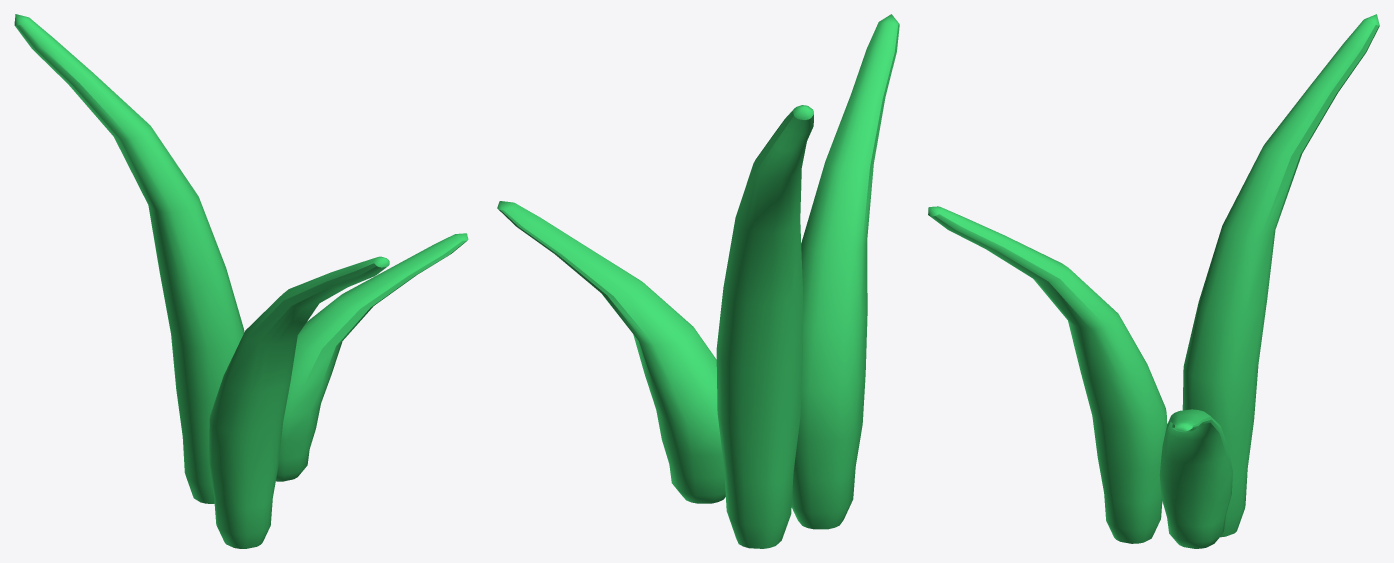
File: Grass.fbx
3 views of the same model, side by side, from view 1: azimuth 30°, elevation 25°; view 2: azimuth 150°, elevation 25°; view 3: azimuth 270°, elevation 25° (orthographic). The views are drawn at different scales.
Parts seen in each view (by area): view 1: Sphere.014; view 2: Sphere.014; view 3: Sphere.014.
Boxes of the visible parts, bbox=[...] form: Sphere.014: bbox=[14, 14, 468, 548]; Sphere.014: bbox=[497, 14, 899, 548]; Sphere.014: bbox=[928, 14, 1379, 548].
Bounding box in the file's own units: 29.67 × 37.17 × 32.06.
